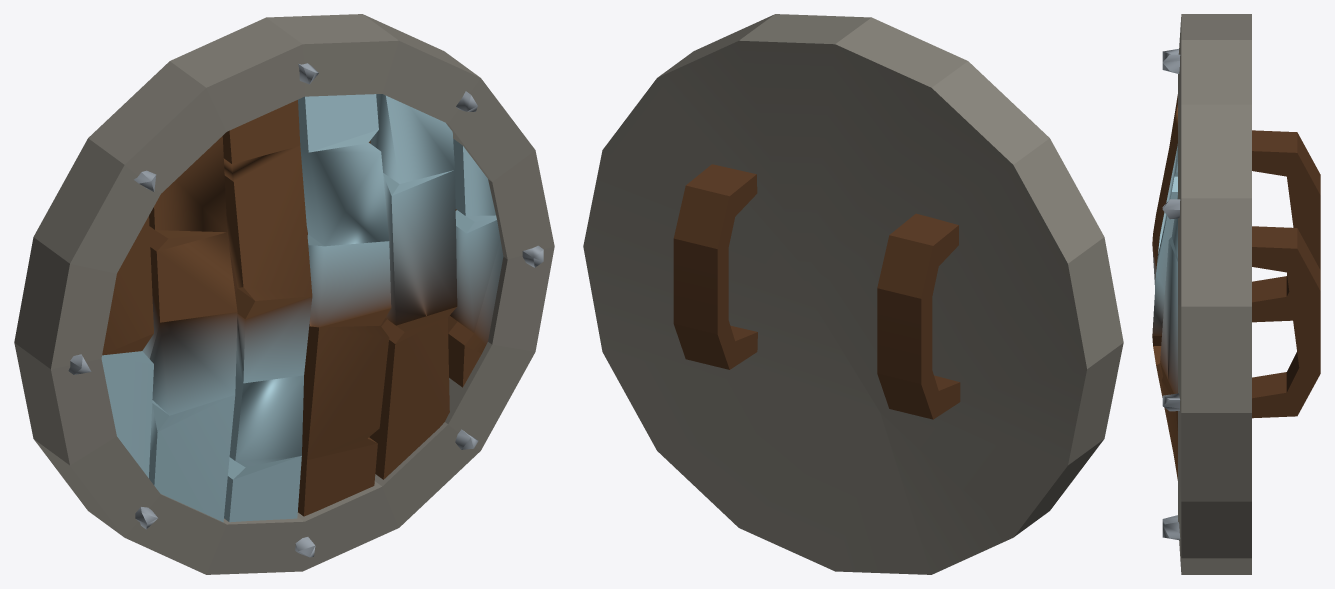
File: cc0-shield-round-lod1.glb
3 renders of one model, left to right at view 1: azimuth 30°, elevation 25°; view 2: azimuth 150°, elevation 25°; view 3: azimuth 270°, elevation 25°, orthographic. The views are drawn at different scales.
Parts seen in each view (by area): view 1: part_0; view 2: part_0; view 3: part_0.
Part boxes in pixels (x1,y1,x2,y2): part_0: [14, 14, 554, 574]; part_0: [583, 14, 1123, 574]; part_0: [1152, 14, 1320, 574].
Bounding box in the file's own units: 2 × 2 × 0.5994.
